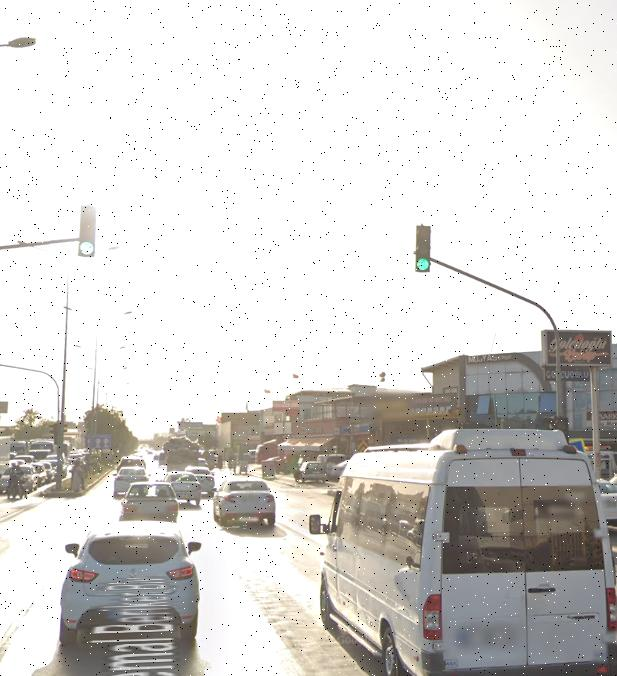greenlight: (76, 204, 99, 259), (415, 224, 432, 274)
